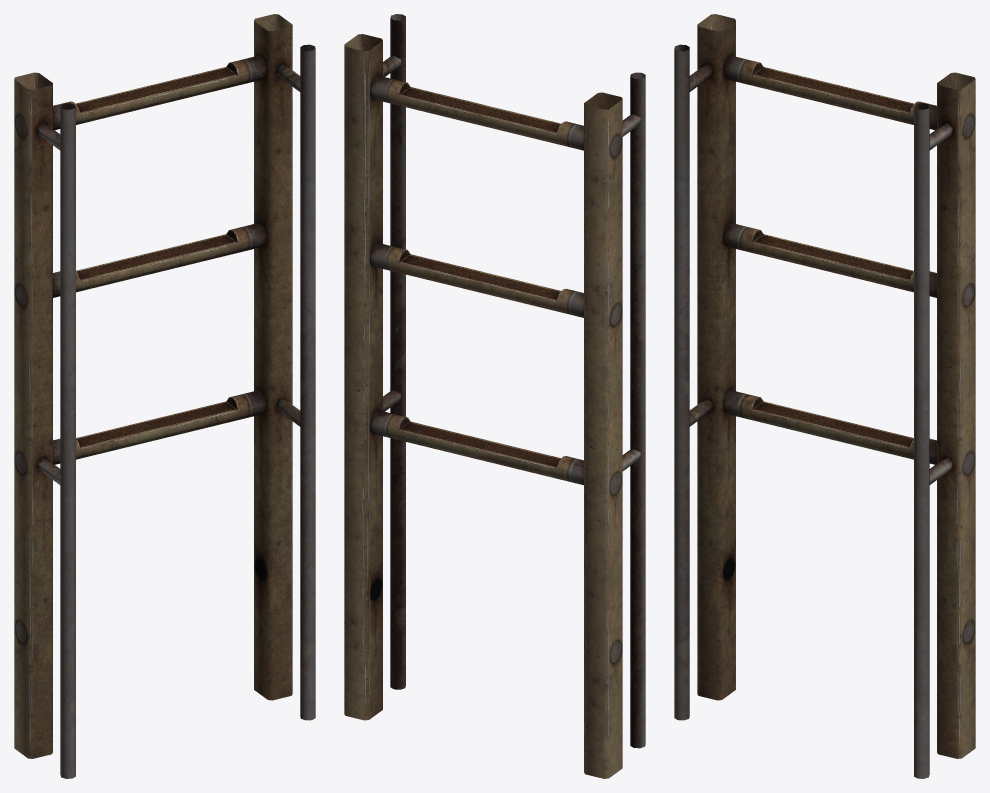
The model's file is 02_06_elevator_shaft_ladder_broken.dae.
3 renders of one model, left to right at view 1: azimuth 30°, elevation 25°; view 2: azimuth 150°, elevation 25°; view 3: azimuth 330°, elevation 25°, orthographic.
Parts seen in each view (by area): view 1: ladder_long_pplant1; view 2: ladder_long_pplant1; view 3: ladder_long_pplant1.
Boxes of the visible parts, box(x1,y1,x2,y2) form: ladder_long_pplant1: box(14, 14, 315, 778); ladder_long_pplant1: box(344, 14, 645, 778); ladder_long_pplant1: box(674, 14, 975, 778).
Bounding box in the file's own units: 0.8281 × 2 × 0.2563.
